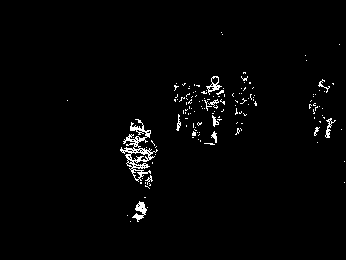person: (120, 115, 156, 221), (233, 71, 258, 134), (204, 75, 226, 145)
